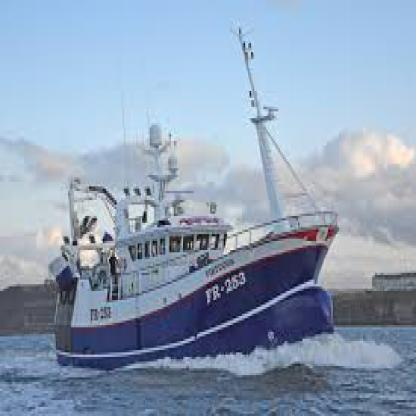fish-b: (45, 14, 357, 382)
